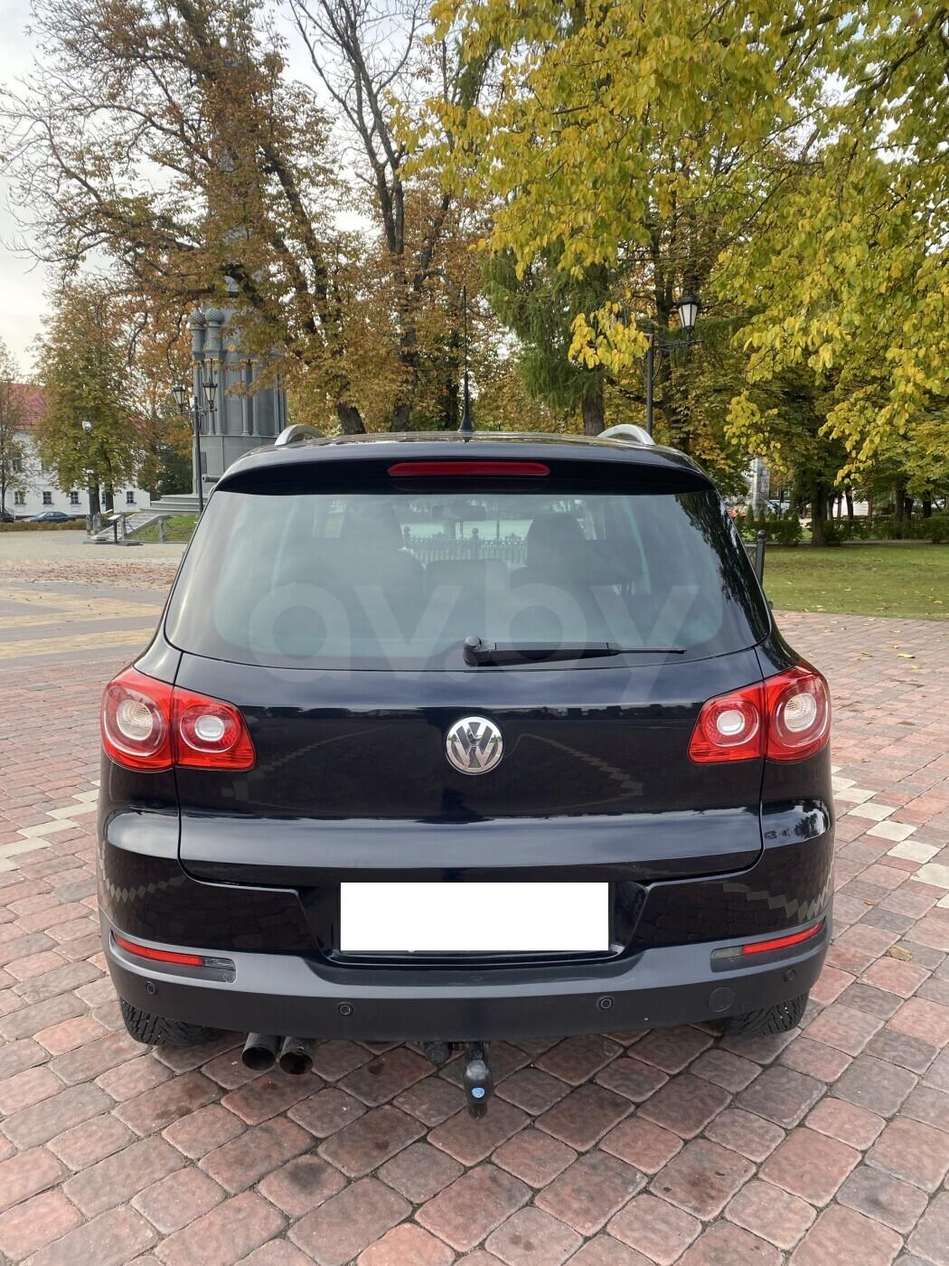Tiguan_2007-2011: (78, 423, 832, 1089)
